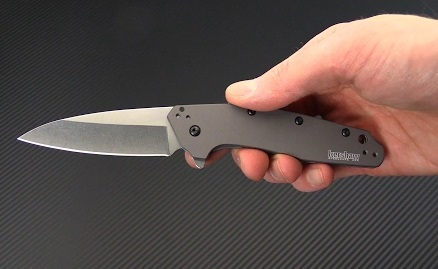knife: (10, 96, 391, 196)
